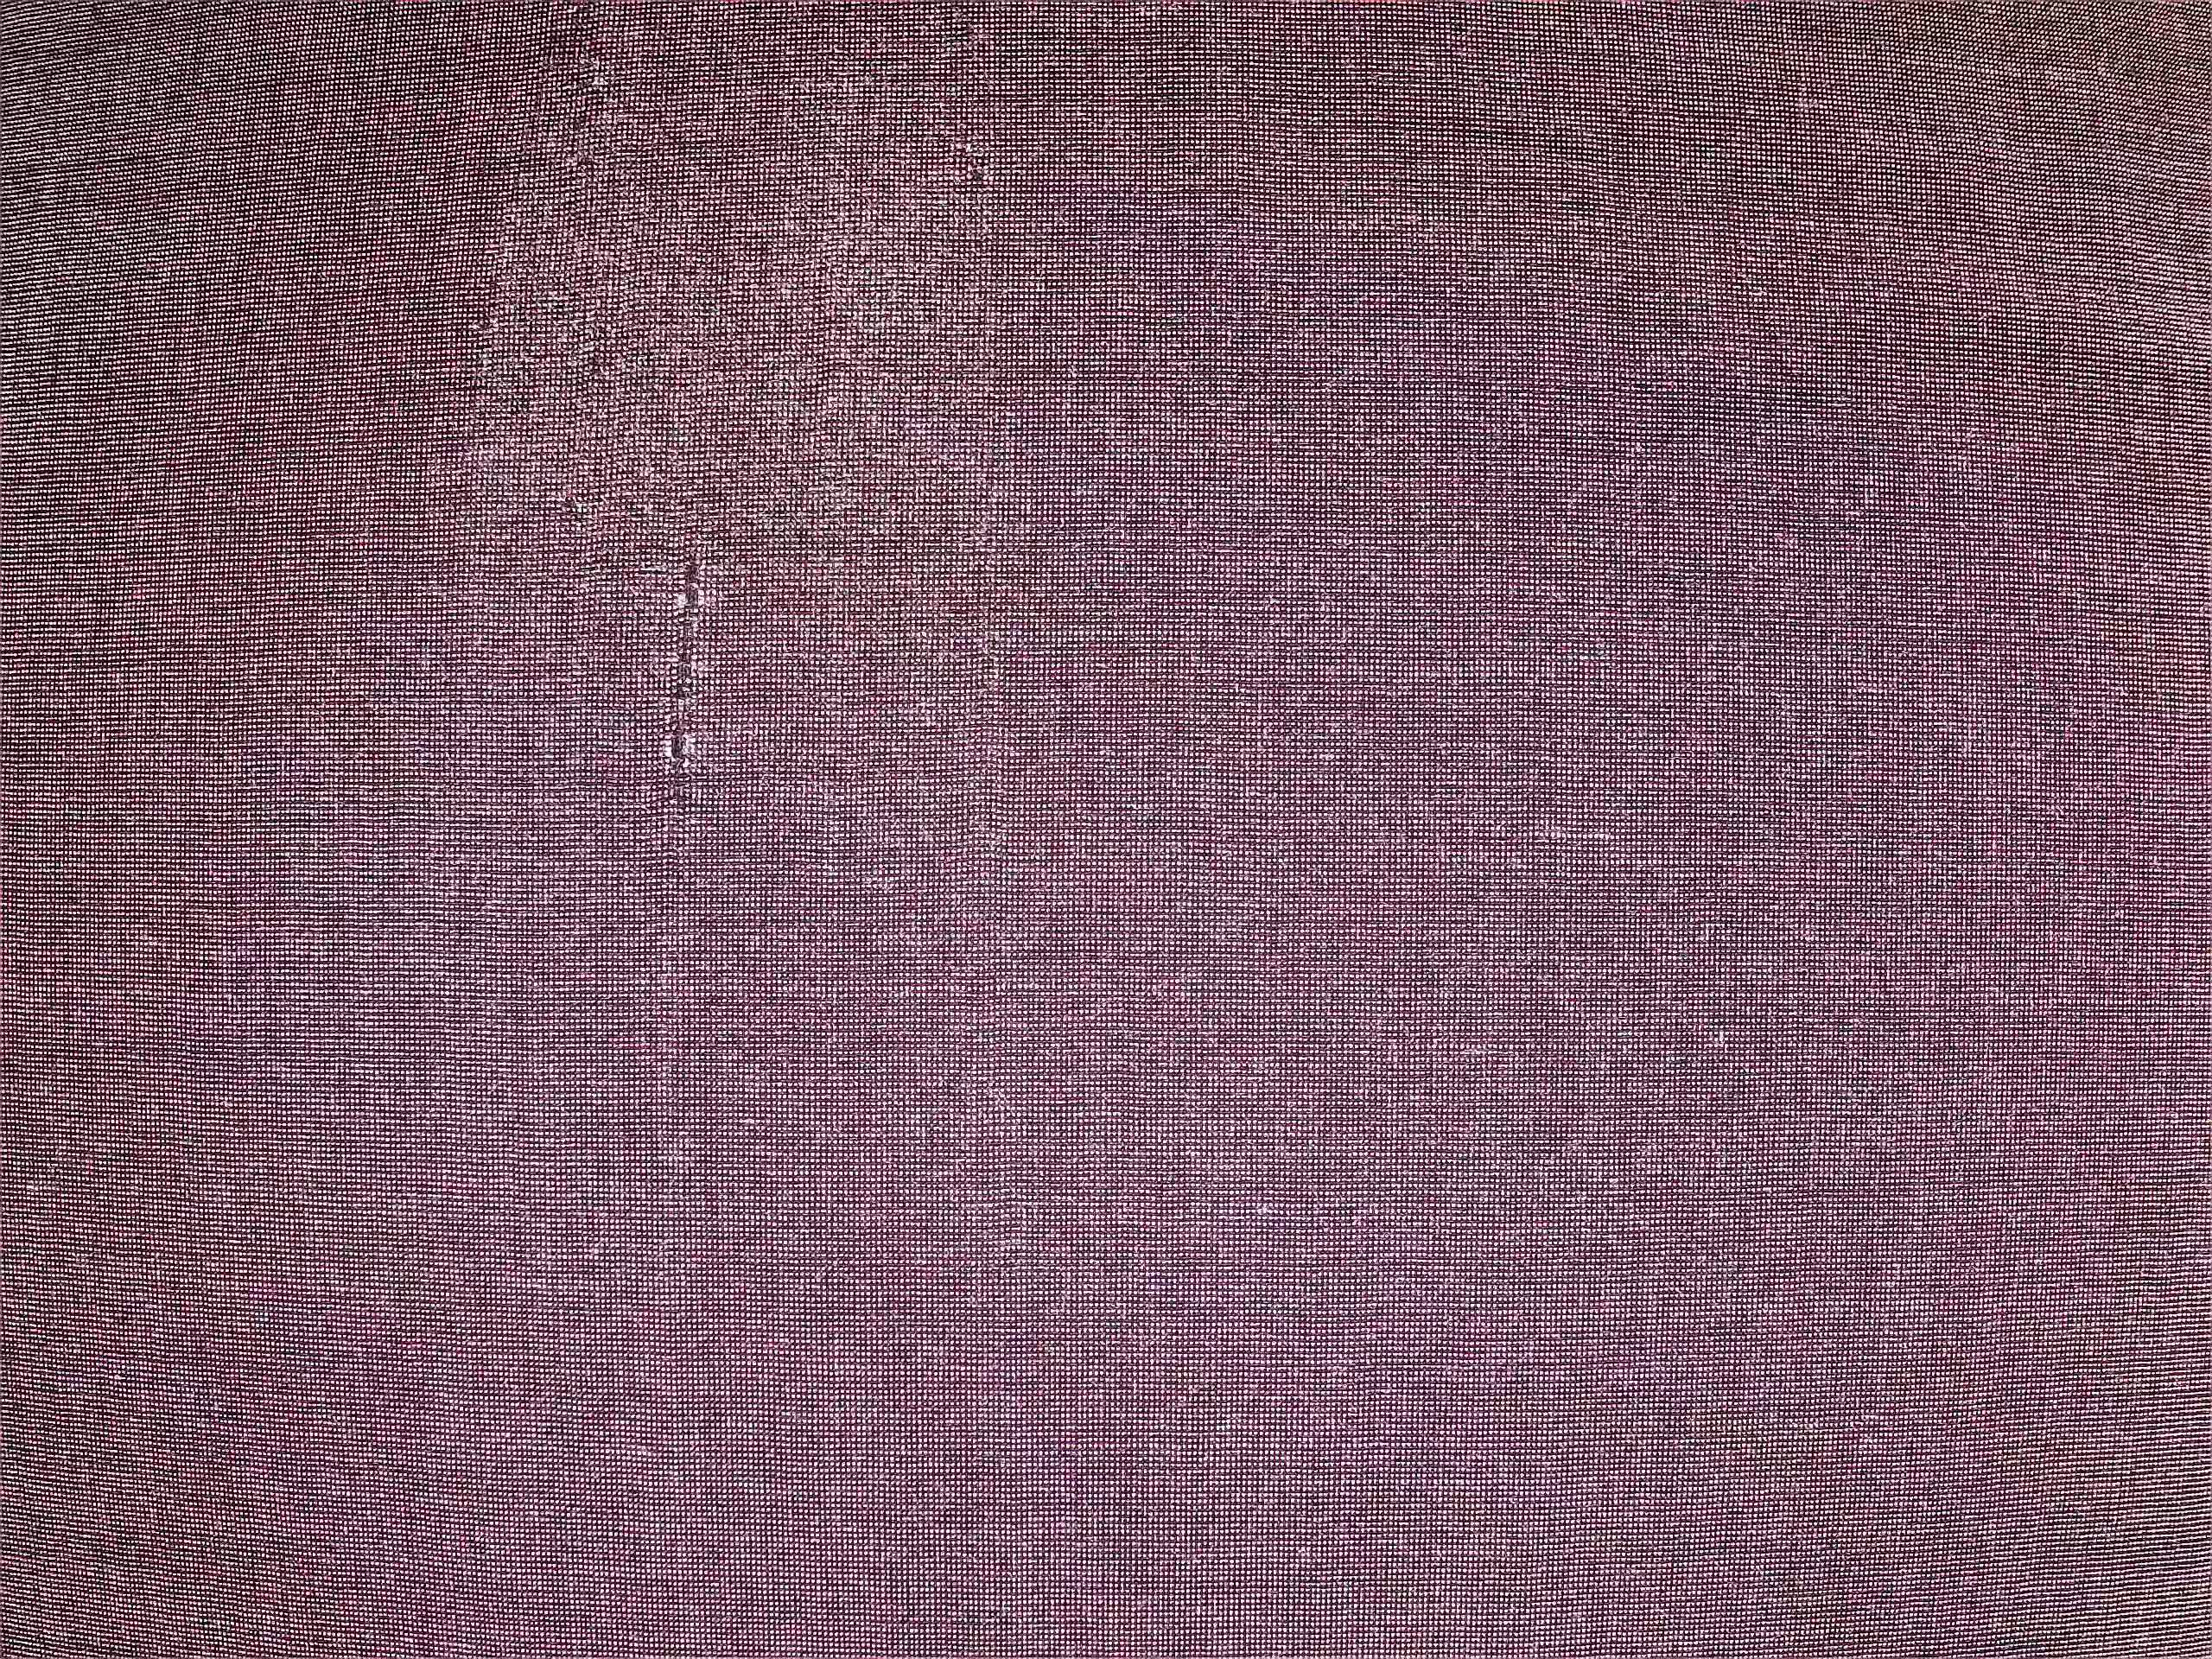rubbing-hole: (636, 537, 744, 810), (942, 113, 1007, 218)
